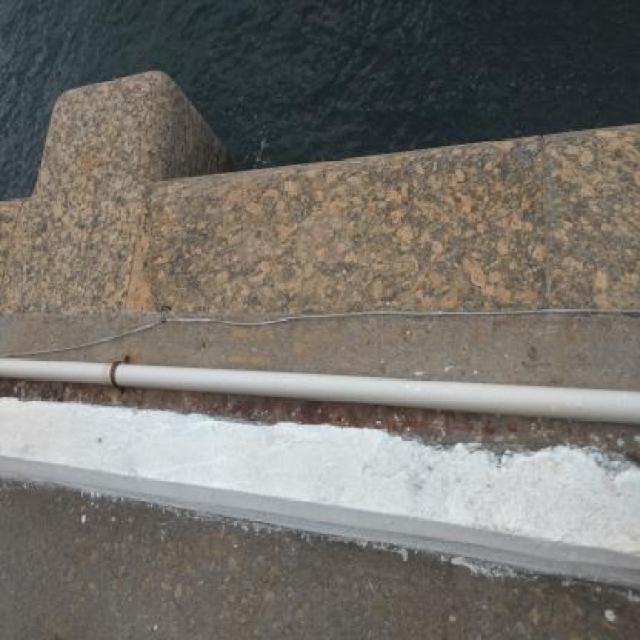gas: (3, 354, 634, 423)
